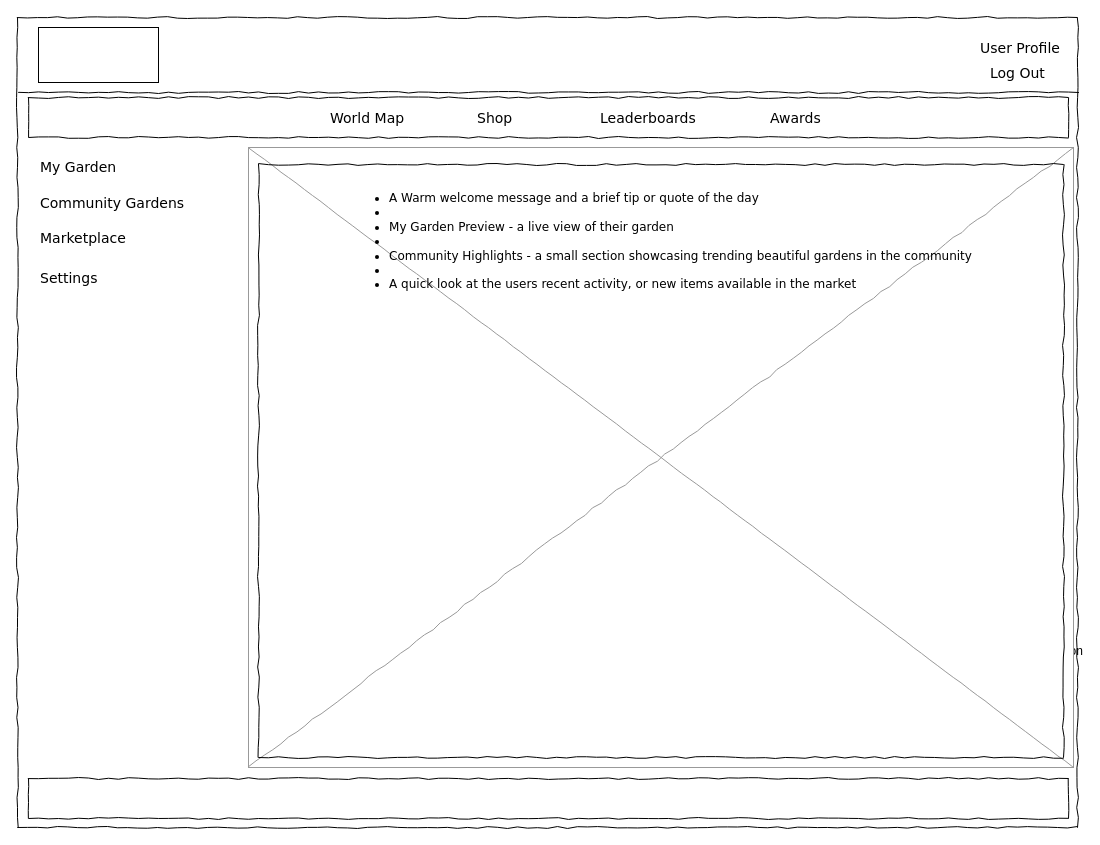
This 1100x845 diagram has some shape labels left out. Here are the shapes that lost their labels. From the top down, the box of each, then its label:
(38, 26, 158, 82): Home
(28, 778, 1068, 818): Contact us, chat support, sitemap?
